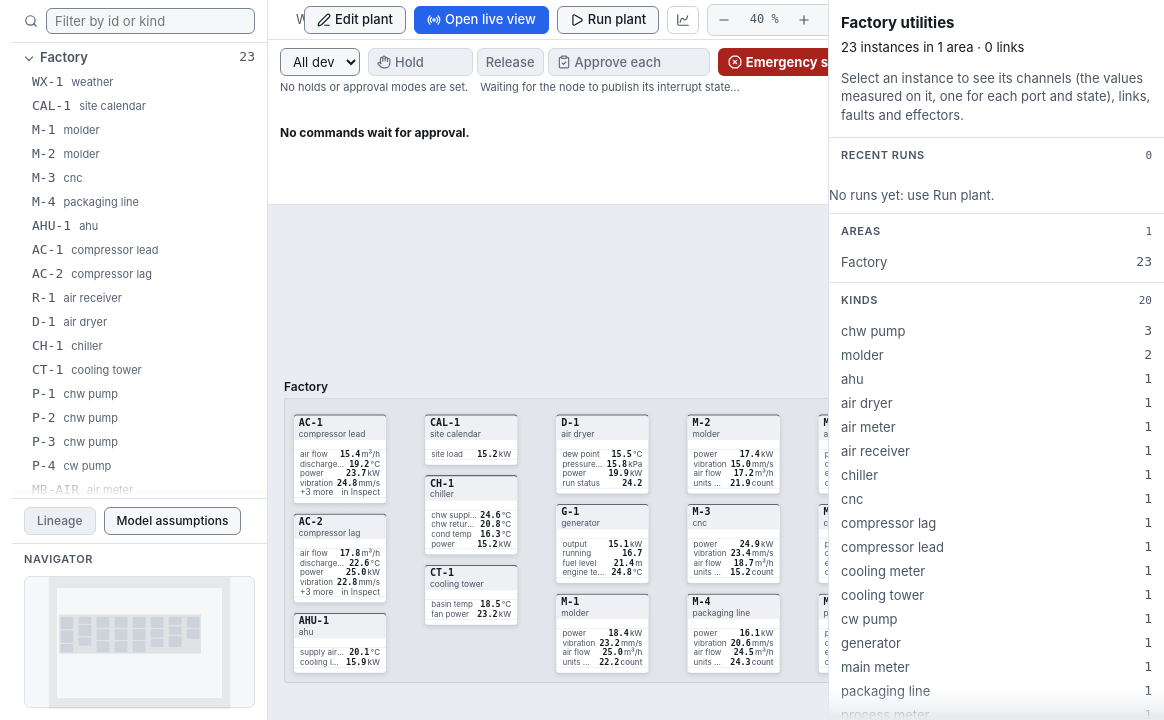
Test case: the trends panel of a watched run › is closed until the toolbar button opens it, and says what to do while nothing is watched
Click the button named "Trends" at point(683, 20), box [667, 6, 699, 34]
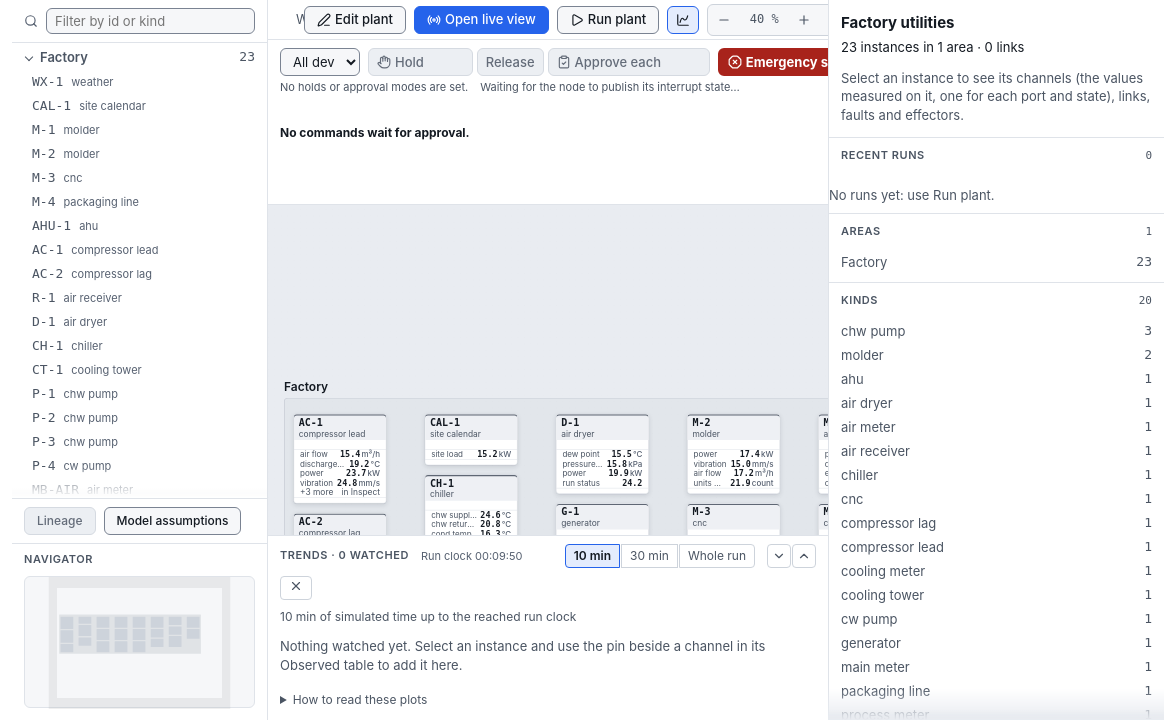
Result: the element "Trends" shows "Nothing watched yet" at [280, 638, 765, 673]
Click the button named "Hide the trends" at point(296, 588), box [280, 576, 312, 600]
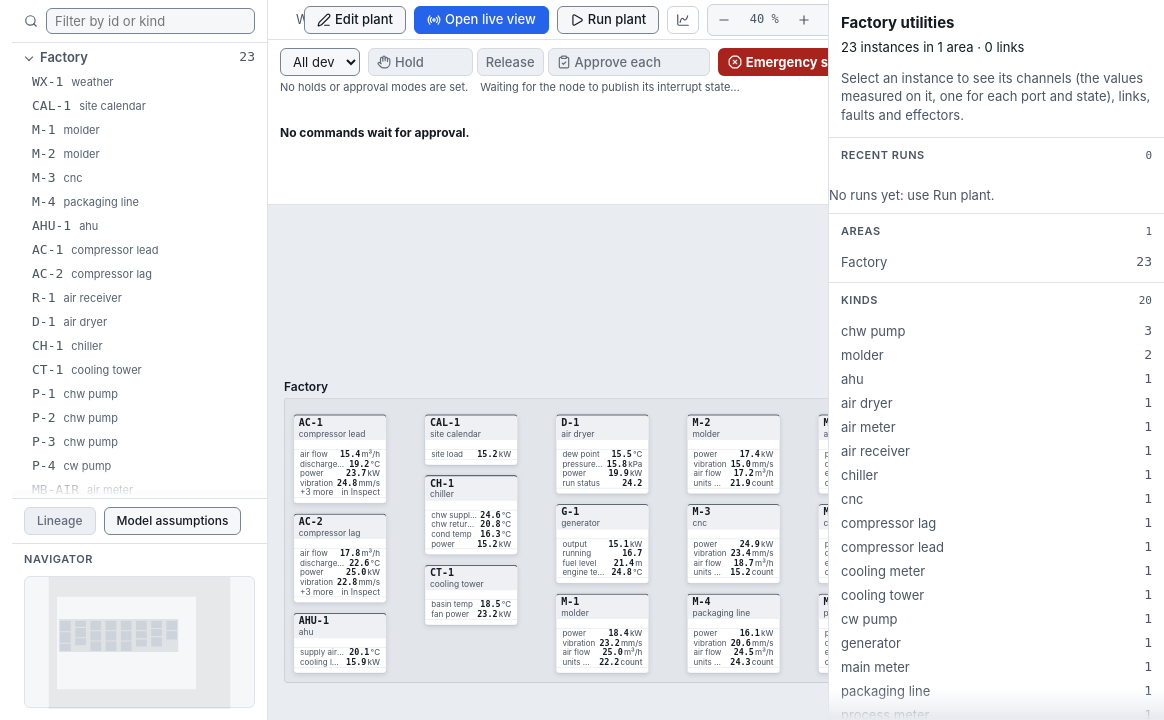
Result: the heading "Trends" is gone
